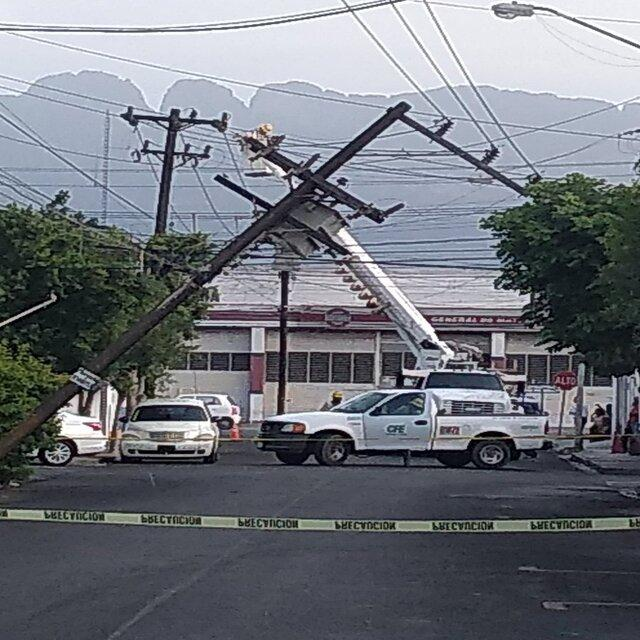Inclined Pole: (0, 94, 545, 465)
